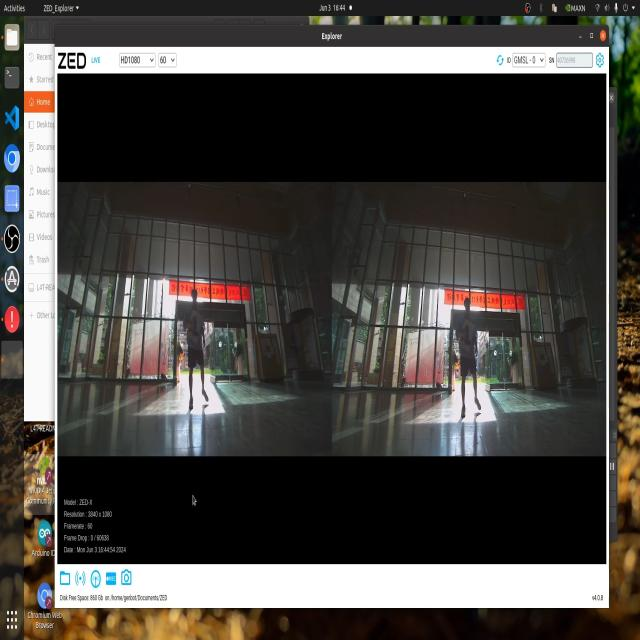blue: (188, 313, 205, 336), (457, 321, 472, 345)
